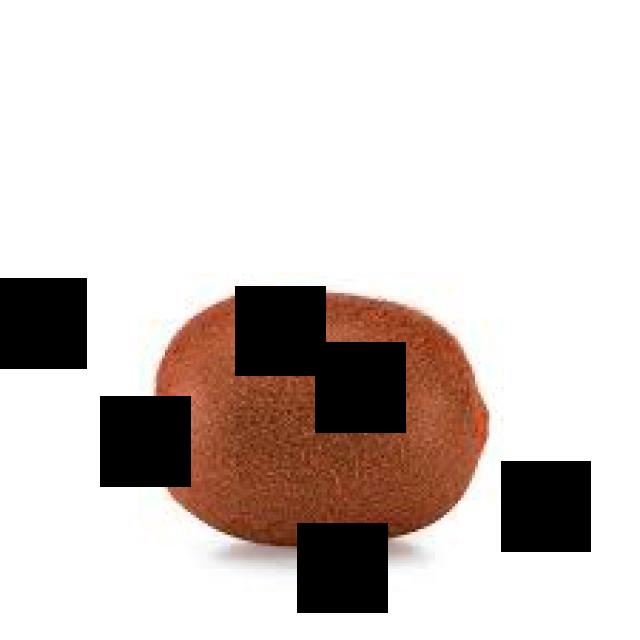kiwi: (135, 283, 499, 559)
